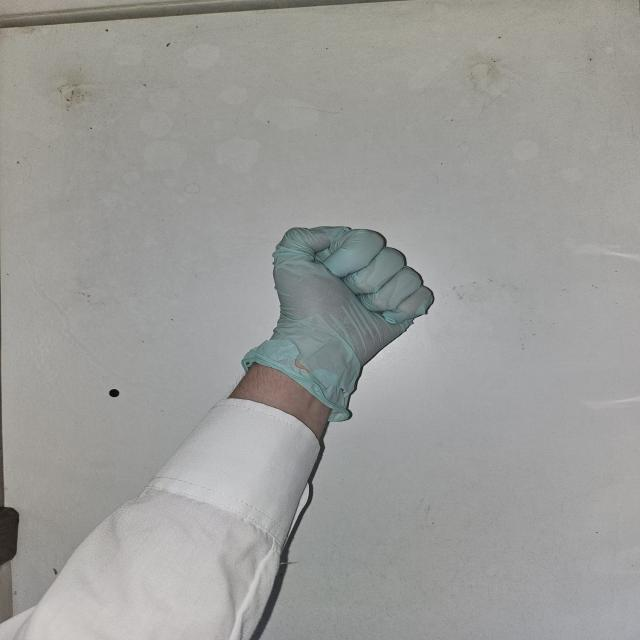gloves_damaged: (240, 225, 435, 418)
